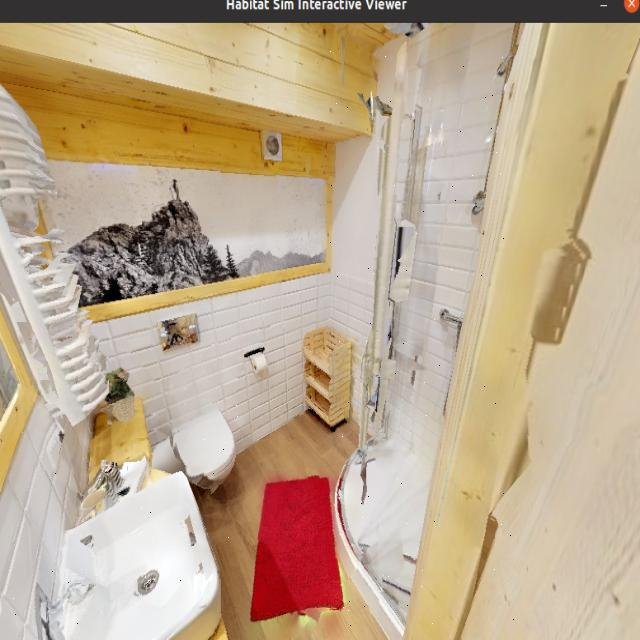shower: (328, 50, 516, 627)
sink: (13, 451, 233, 640)
toilet: (169, 388, 249, 513)
